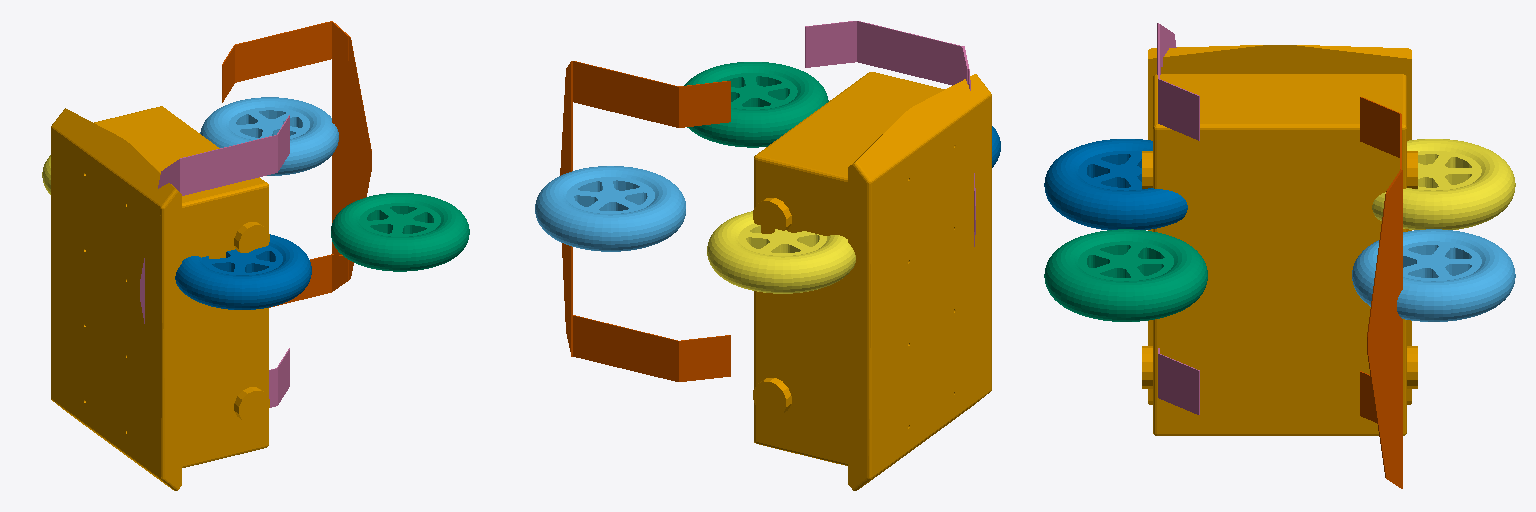
The robot description file, URDF, robot "franka_jackal":
<?xml version="0.0" ?>
<robot name="franka_jackal">

	<link name="chassis_link">
		<inertial>
			<origin rpy="0 0 0" xyz="0.012  0.002 0.067"/>
			<mass value="16.523"/>
			<inertia ixx="0.3136" ixy="-0.0008" ixz="0.0164" iyy="0.3922" iyz="-0.0009" izz="0.4485"/>
		</inertial>

        <visual>
			<origin rpy="1.57079632679 0.0 1.57079632679" xyz="0 0 -0.0655"/>
            <geometry>
				<mesh filename="meshes/visual/jackal-base.stl" scale="1.00000 1.00000 1.00000"/>
            </geometry>
			<material name="dark_grey"/>
        </visual>

		<collision>
			<origin xyz="0 0 0.092"/>
			<geometry>
				<box size="0.42 0.31 0.184"/>
			</geometry>
		</collision>
	</link>

	<link name="front_left_wheel_link">
		<visual>
			<origin rpy="1.57079632679 0 0" xyz="0 0 0"/>
			<geometry>
				<mesh filename="meshes/visual/jackal-wheel.stl"/>
			</geometry>
			<material name="black"/>
		</visual>
	</link>

	<joint name="front_left_wheel" type="fixed">
		<parent link="chassis_link"/>
		<child link="front_left_wheel_link"/>
		<origin rpy="0 0 0" xyz="0.131 0.187795 0.0345"/>
		<axis xyz="0 1 0"/>
	</joint>

	<link name="front_right_wheel_link">
		<visual>
			<origin rpy="1.57079632679 0 0" xyz="0 0 0"/>
			<geometry>
				<mesh filename="meshes/visual/jackal-wheel.stl"/>
			</geometry>
			<material name="black"/>
		</visual>
	</link>

	<joint name="front_rignt_wheel" type="fixed">
		<parent link="chassis_link"/>
		<child link="front_right_wheel_link"/>
		<origin rpy="0 0 0" xyz="0.131 -0.187795 0.0345"/>
		<axis xyz="0 1 0"/>
	</joint>

	<link name="rear_left_wheel_link">
		<visual>
			<origin rpy="1.57079632679 0 0" xyz="0 0 0"/>
			<geometry>
				<mesh filename="meshes/visual/jackal-wheel.stl"/>
			</geometry>
			<material name="black"/>
		</visual>
	</link>

	<joint name="rear_left_wheel" type="fixed">
		<parent link="chassis_link"/>
		<child link="rear_left_wheel_link"/>
		<origin rpy="0 0 0" xyz="-0.131 0.187795 0.0345"/>
		<axis xyz="0 1 0"/>
	</joint>

	<link name="rear_right_wheel_link">
		<visual>
			<origin rpy="1.57079632679 0 0" xyz="0 0 0"/>
			<geometry>
				<mesh filename="meshes/visual/jackal-wheel.stl"/>
			</geometry>
			<material name="black"/>
		</visual>
	</link>

	<joint name="rear_right_wheel" type="fixed">
		<parent link="chassis_link"/>
		<child link="rear_right_wheel_link"/>
		<origin rpy="0 0 0" xyz="-0.131 -0.187795 0.0345"/>
		<axis xyz="0 1 0"/>
	</joint>

	<link name="front_fender_link">
		<visual>
			<geometry>
				<mesh filename="meshes/visual/jackal-fender.stl"/>
			</geometry>
			<material name="yellow"/>
		</visual>
	</link>

	<joint name="front_fender_joint" type="fixed">
		<origin rpy="0 0 0" xyz="0 0 0"/>
		<parent link="chassis_link"/>
		<child link="front_fender_link"/>
	</joint>

	<link name="rear_fender_link">
		<visual>
			<geometry>
				<mesh filename="meshes/visual/jackal-fender.stl"/>
			</geometry>
			<material name="yellow"/>
		</visual>
	</link>

	<joint name="rear_fender_joint" type="fixed">
		<origin rpy="0 0 3.14159265359" xyz="0 0 0"/>
		<parent link="chassis_link"/>
		<child link="rear_fender_link"/>
	</joint>

	<link name="left_wheel_link">
		<collision>
			<origin rpy="1.57079632679 0 0" xyz="0 0 0"/>
			<geometry>
				<cylinder length="0.04" radius="0.098"/>
			</geometry>
		</collision>

		<inertial>
			<origin rpy="0 0 0" xyz="0 0 0"/>
			<mass value="0.477"/>
			<inertia ixx="0.0013" ixy="0" ixz="0" iyy="0.0024" iyz="0" izz="0.0013"/>
		</inertial>
	</link>

	<joint name="left_wheel" type="continuous">
		<parent link="chassis_link"/>
		<child link="left_wheel_link"/>
		<origin rpy="0 0 0" xyz="0.0 0.187795 0.0345"/>
		<axis xyz="0 1 0"/>
	</joint>

	<link name="right_wheel_link">
		<collision>
			<origin rpy="1.57079632679 0 0" xyz="0 0 0"/>
			<geometry>
				<cylinder length="0.04" radius="0.098"/>
			</geometry>
		</collision>
		<inertial>
			<origin rpy="0 0 0" xyz="0 0 0"/>
			<mass value="0.477"/>
			<inertia ixx="0.0013" ixy="0" ixz="0" iyy="0.0024" iyz="0" izz="0.0013"/>
		</inertial>
	</link>

	<joint name="right_wheel" type="continuous">
		<parent link="chassis_link"/>
		<child link="right_wheel_link"/>
		<origin rpy="0 0 0" xyz="0.0 -0.187795 0.0345"/>
		<axis xyz="0 1 0"/>
	</joint>

	<link name="front_ball">
		<collision>
			<geometry>
				<!-- <sphere radius="0.048"/> -->
				<sphere radius="0.047"/>
			</geometry>
		</collision>
	</link>

	<joint name="front_ball_joint" type="fixed">
		<parent link="chassis_link"/>
		<child link="front_ball"/>
		<origin rpy="0 0 0" xyz="0.131 0 -0.0155"/>
		<axis xyz="0 1 0"/>
	</joint>

	<link name="rear_ball">
		<collision>
			<geometry>
				<!-- <sphere radius="0.048"/> -->
				<sphere radius="0.047"/>
			</geometry>
		</collision>
	</link>

	<joint name="rear_ball_joint" type="fixed">
		<parent link="chassis_link"/>
		<child link="rear_ball"/>
		<origin rpy="0 0 0" xyz="-0.131 0 -0.0155"/>
		<axis xyz="0 1 0"/>
	</joint>


	<!-- franka panda -->


	<link name="panda_link0">
		<visual>
			<geometry>
				<mesh filename="meshes/visual/link0.dae"/>
			</geometry>
		</visual>
		<collision>
			<geometry>
				<mesh filename="meshes/collision/link0.obj"/>
			</geometry>
		</collision>
	</link>

	<joint name="base_panda" type="fixed">
		<parent link="chassis_link"/>
		<child link="panda_link0"/>
		<origin rpy="0 0 0" xyz="0.05 0 0.18"/>
		<axis xyz="0 0 1"/>
	</joint>

	<link name="panda_link1">
		<visual>
			<geometry>
				<mesh filename="meshes/visual/link1.dae"/>
			</geometry>
		</visual>
		<collision>
			<geometry>
				<mesh filename="meshes/collision/link1.obj"/>
			</geometry>
		</collision>
	</link>

	<joint name="panda_joint1" type="revolute">
		<safety_controller k_position="100.0" k_velocity="40.0" soft_lower_limit="-2.8973" soft_upper_limit="2.8973"/>
		<origin rpy="0 0 0" xyz="0 0 0.333"/>
		<parent link="panda_link0"/>
		<child link="panda_link1"/>
		<axis xyz="0 0 1"/>
		<dynamics damping="10.0"/>
		<limit effort="87" lower="-2.8973" upper="2.8973" velocity="2.1750"/>
	</joint>

	<link name="panda_link2">
		<visual>
			<geometry>
				<mesh filename="meshes/visual/link2.dae"/>
			</geometry>
		</visual>
		<collision>
			<geometry>
				<mesh filename="meshes/collision/link2.obj"/>
			</geometry>
		</collision>
	</link>

	<joint name="panda_joint2" type="revolute">
		<safety_controller k_position="100.0" k_velocity="40.0" soft_lower_limit="-1.7628" soft_upper_limit="1.7628"/>
		<origin rpy="-1.57079632679 0 0" xyz="0 0 0"/>
		<parent link="panda_link1"/>
		<child link="panda_link2"/>
		<axis xyz="0 0 1"/>
		<dynamics damping="10.0"/>
		<limit effort="87" lower="-1.7628" upper="1.7628" velocity="2.1750"/>
	</joint>

	<link name="panda_link3">
		<visual>
			<geometry>
				<mesh filename="meshes/visual/link3.dae"/>
			</geometry>
		</visual>
		<collision>
			<geometry>
				<mesh filename="meshes/collision/link3.obj"/>
			</geometry>
		</collision>
	</link>

	<joint name="panda_joint3" type="revolute">
		<safety_controller k_position="100.0" k_velocity="40.0" soft_lower_limit="-2.8973" soft_upper_limit="2.8973"/>
		<origin rpy="1.57079632679 0 0" xyz="0 -0.316 0"/>
		<parent link="panda_link2"/>
		<child link="panda_link3"/>
		<axis xyz="0 0 1"/>
		<dynamics damping="10.0"/>
		<limit effort="87" lower="-2.8973" upper="2.8973" velocity="2.1750"/>
	</joint>

	<link name="panda_link4">
		<visual>
			<geometry>
				<mesh filename="meshes/visual/link4.dae"/>
			</geometry>
		</visual>
		<collision>
			<geometry>
				<mesh filename="meshes/collision/link4.obj"/>
			</geometry>
		</collision>
	</link>

	<joint name="panda_joint4" type="revolute">
		<safety_controller k_position="100.0" k_velocity="40.0" soft_lower_limit="-3.0718" soft_upper_limit="-0.0698"/>
		<origin rpy="1.57079632679 0 0" xyz="0.0825 0 0"/>
		<parent link="panda_link3"/>
		<child link="panda_link4"/>
		<axis xyz="0 0 1"/>    
		<dynamics damping="10.0"/>
		<limit effort="87" lower="-3.0718" upper="-0.0698" velocity="2.1750"/>
		<!-- something is weird with this joint limit config
		<dynamics damping="10.0"/>
		<limit effort="87" lower="-3.0" upper="0.087" velocity="2.1750"/>  -->
	</joint>

	<link name="panda_link5">
		<visual>
			<geometry>
				<mesh filename="meshes/visual/link5.dae"/>
			</geometry>
		</visual>
		<collision>
			<geometry>
				<mesh filename="meshes/collision/link5.obj"/>
			</geometry>
		</collision>
	</link>

	<joint name="panda_joint5" type="revolute">
		<safety_controller k_position="100.0" k_velocity="40.0" soft_lower_limit="-2.8973" soft_upper_limit="2.8973"/>
		<origin rpy="-1.57079632679 0 0" xyz="-0.0825 0.384 0"/>
		<parent link="panda_link4"/>
		<child link="panda_link5"/>
		<axis xyz="0 0 1"/>
		<dynamics damping="10.0"/>
		<limit effort="12" lower="-2.8973" upper="2.8973" velocity="2.6100"/>
	</joint>

	<link name="panda_link6">
		<visual>
			<geometry>
				<mesh filename="meshes/visual/link6.dae"/>
			</geometry>
		</visual>
		<collision>
			<geometry>
				<mesh filename="meshes/collision/link6.obj"/>
			</geometry>
		</collision>
	</link>

	<joint name="panda_joint6" type="revolute">
		<safety_controller k_position="100.0" k_velocity="40.0" soft_lower_limit="-0.0175" soft_upper_limit="3.7525"/>
		<origin rpy="1.57079632679 0 0" xyz="0 0 0"/>
		<parent link="panda_link5"/>
		<child link="panda_link6"/>
		<axis xyz="0 0 1"/>
		<dynamics damping="10.0"/>
		<limit effort="12" lower="-0.0175" upper="3.7525" velocity="2.6100"/>
		<!-- <dynamics damping="10.0"/>
		<limit effort="12" lower="-0.0873" upper="3.0" velocity="2.6100"/> -->
	</joint>

	<link name="panda_link7">
		<visual>
			<geometry>
				<mesh filename="meshes/visual/link7.dae"/>
			</geometry>
		</visual>
		<collision>
			<geometry>
				<mesh filename="meshes/collision/link7.obj"/>
			</geometry>
		</collision>
	</link>

	<joint name="panda_joint7" type="revolute">
		<safety_controller k_position="100.0" k_velocity="40.0" soft_lower_limit="-2.8973" soft_upper_limit="2.8973"/>
		<origin rpy="1.57079632679 0 0" xyz="0.088 0 0"/>
		<parent link="panda_link6"/>
		<child link="panda_link7"/>
		<axis xyz="0 0 1"/>
		<dynamics damping="10.0"/>
		<limit effort="12" lower="-2.8973" upper="2.8973" velocity="2.6100"/>
	</joint>

	<link name="panda_hand">
		<visual>
			<geometry>
				<mesh filename="meshes/visual/hand.dae"/>
			</geometry>
		</visual>
		<collision>
			<geometry>
				<mesh filename="meshes/collision/hand.obj"/>
			</geometry>
		</collision>
	</link>

	<joint name="panda_hand_joint" type="fixed">
		<parent link="panda_link7"/>
		<child link="panda_hand"/>
		<origin rpy="0 0 -0.785398163397" xyz="0 0 0.107"/>
	</joint>

	<link name="panda_leftfinger">
		<visual>
			<geometry>
				<mesh filename="meshes/visual/finger.dae"/>
			</geometry>
		</visual>
		<collision>
			<geometry>
				<mesh filename="meshes/collision/finger.obj"/>
			</geometry>
		</collision>
	</link>

	<joint name="panda_finger_joint1" type="prismatic">
		<parent link="panda_hand"/>
		<child link="panda_leftfinger"/>
		<origin rpy="0 0 0" xyz="0 0 0.0584"/>
		<axis xyz="0 1 0"/>
		<dynamics damping="10.0"/>
		<limit effort="20" lower="0.0" upper="0.04" velocity="0.2"/>
	</joint>

	<link name="panda_rightfinger">
		<visual>
			<origin rpy="0 0 3.14159265359" xyz="0 0 0"/>
			<geometry>
				<mesh filename="meshes/visual/finger.dae"/>
			</geometry>
		</visual>
		<collision>
			<origin rpy="0 0 3.14159265359" xyz="0 0 0"/>
			<geometry>
				<mesh filename="meshes/collision/finger.obj"/>
			</geometry>
		</collision>
	</link>

	<joint name="panda_finger_joint2" type="prismatic">
		<parent link="panda_hand"/>
		<child link="panda_rightfinger"/>
		<origin rpy="0 0 0" xyz="0 0 0.0584"/>
		<axis xyz="0 -1 0"/>
		<dynamics damping="10.0"/>
		<limit effort="20" lower="0.0" upper="0.04" velocity="0.2"/>
		<mimic joint="panda_finger_joint1"/>
	</joint>

</robot>

--- Render facts (derived) ---
3 views of the same robot in one strip: view 1: azimuth 30°, elevation 25°; view 2: azimuth 150°, elevation 25°; view 3: azimuth 270°, elevation 25° (orthographic).
Robot: franka_jackal — 22 links, 21 joints (7 revolute, 2 continuous, 2 prismatic, 10 fixed); root link chassis_link; default pose: joints at zero except 1 at the middle of their limits (panda_joint4 = -1.57).
Links seen in each view (by area): view 1: chassis_link, front_fender_link, front_right_wheel_link, rear_right_wheel_link, front_left_wheel_link, rear_fender_link; view 2: chassis_link, front_fender_link, front_left_wheel_link, rear_left_wheel_link, front_right_wheel_link, rear_fender_link; view 3: chassis_link, front_right_wheel_link, front_fender_link, front_left_wheel_link, rear_right_wheel_link, rear_left_wheel_link, rear_fender_link.
Boxes of the visible links, x1,y1,x2,y2 form: chassis_link: (51, 106, 269, 490); front_fender_link: (222, 21, 371, 307); front_right_wheel_link: (331, 193, 469, 271); rear_right_wheel_link: (175, 234, 311, 309); front_left_wheel_link: (200, 97, 338, 175); rear_fender_link: (140, 115, 289, 407); chassis_link: (753, 72, 991, 490); front_fender_link: (560, 61, 730, 381); front_left_wheel_link: (535, 166, 685, 251); rear_left_wheel_link: (707, 211, 855, 293); front_right_wheel_link: (684, 62, 828, 147); rear_fender_link: (805, 21, 975, 246); chassis_link: (1142, 45, 1417, 435); front_right_wheel_link: (1044, 229, 1207, 321); front_fender_link: (1360, 97, 1402, 488); front_left_wheel_link: (1352, 229, 1515, 321); rear_right_wheel_link: (1044, 139, 1187, 229); rear_left_wheel_link: (1372, 139, 1515, 229); rear_fender_link: (1157, 23, 1199, 414).
Bounding box of the posed robot: 0.5106 × 0.5753 × 0.5248 m (x, y, z).
Meshes: 13 distinct files referenced, 7 mesh visuals loaded (3 binary STL); not drawn: 11 (reference not matched to a file when rendering).